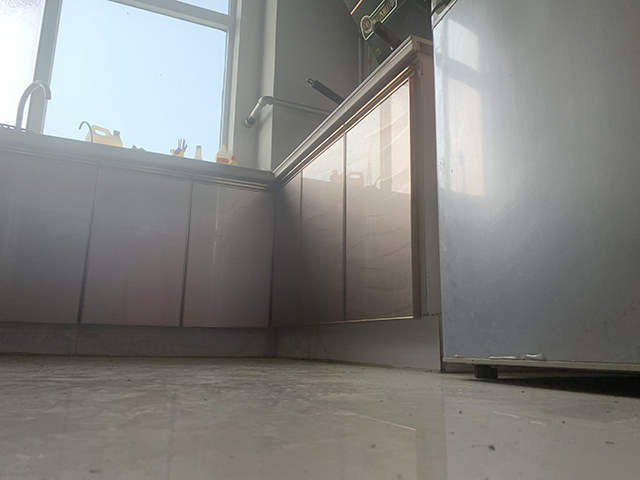cabinet: (1, 110, 277, 362), (275, 33, 441, 369)
